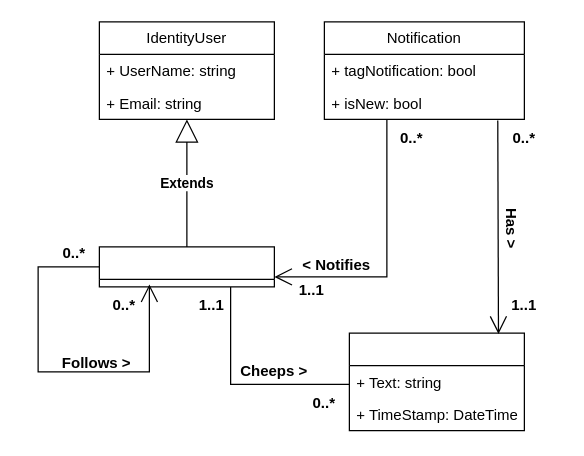
This 584x456 diagram has some shape labels left out. Here are the shapes that lost their labels. From the top down, the box of each, then its label:
(98, 246, 274, 287): Author
(348, 332, 524, 431): Cheep
